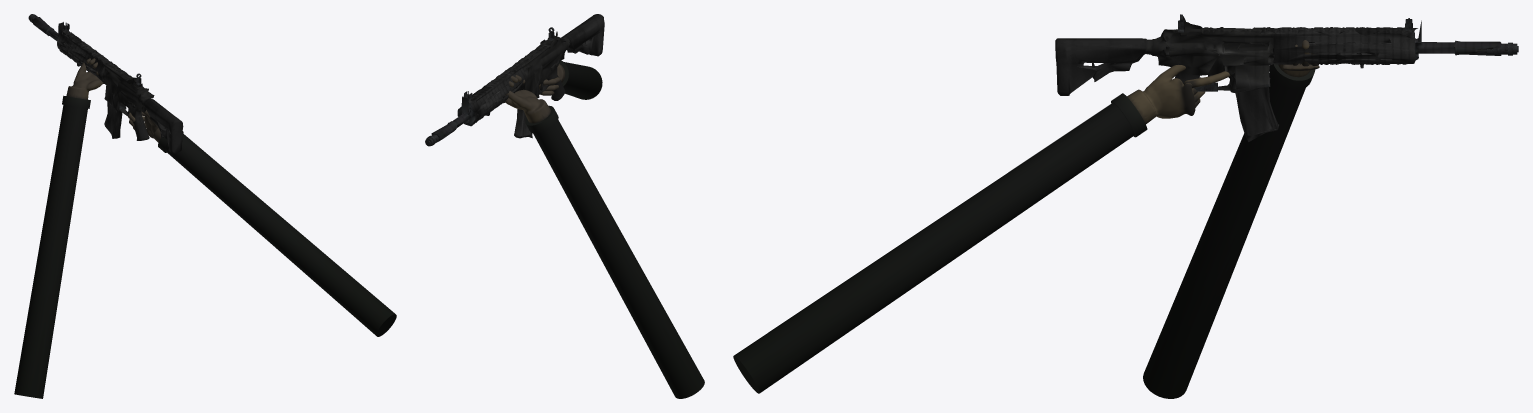
Rendered from warden.glb.
3 renders of one model, left to right at view 1: azimuth 30°, elevation 25°; view 2: azimuth 150°, elevation 25°; view 3: azimuth 270°, elevation 25°, orthographic. The views are drawn at different scales.
Visible parts, largest first — view 1: arms_L_warden, arms_R_warden, base, mag; view 2: arms_L_warden, base, arms_R_warden, mag, dressing; view 3: arms_R_warden, base, arms_L_warden, mag, dressing.
Part boxes in pixels (box(x1,y1,x2,y2)): arms_L_warden: box(14, 58, 104, 398); arms_R_warden: box(128, 110, 396, 336); base: box(32, 17, 183, 153); mag: box(104, 97, 126, 138); arms_L_warden: box(503, 75, 704, 398); base: box(431, 14, 604, 142); arms_R_warden: box(539, 60, 602, 99); mag: box(514, 96, 539, 138); dressing: box(425, 27, 554, 146); arms_R_warden: box(733, 65, 1230, 393); base: box(1055, 14, 1501, 95); arms_L_warden: box(1143, 40, 1319, 398); mag: box(1229, 79, 1279, 141); dressing: box(1178, 14, 1518, 91).
Bounding box in the file's own units: 0.9185 × 1.05 × 1.61.
Materials: 6 (4 with a texture image).
